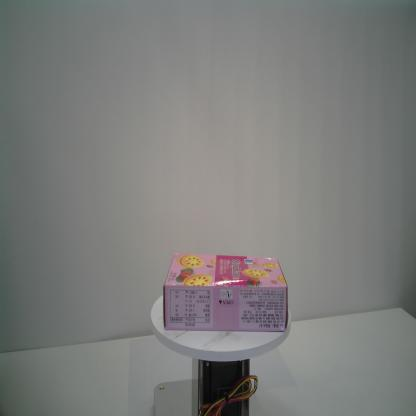Dessert: (160, 250, 289, 336)
